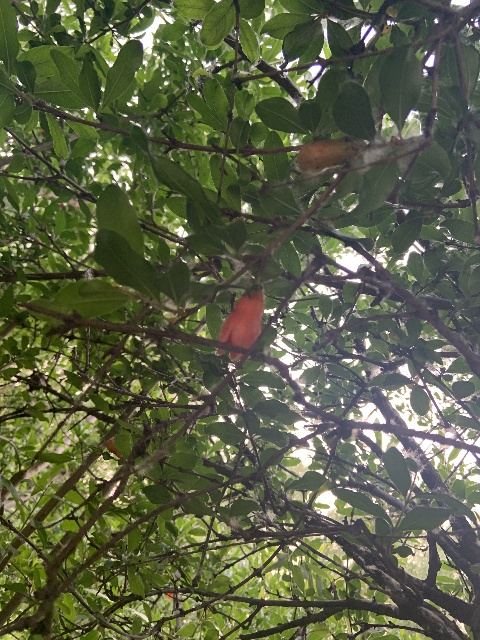bud: (297, 140, 352, 174), (106, 437, 120, 457)
flower: (216, 288, 264, 360)
